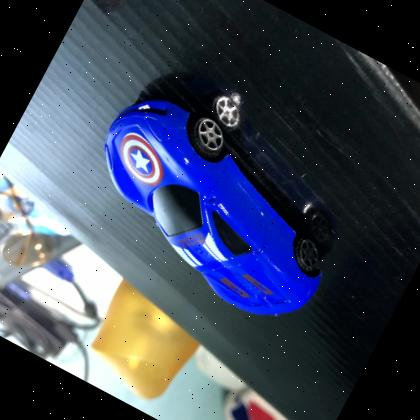Car: (56, 72, 372, 346)
